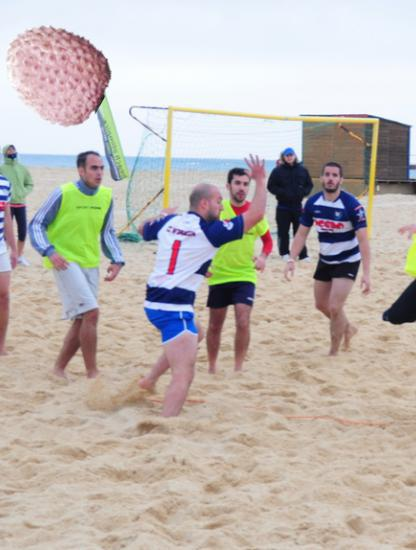Lychee: (1, 19, 111, 129)
